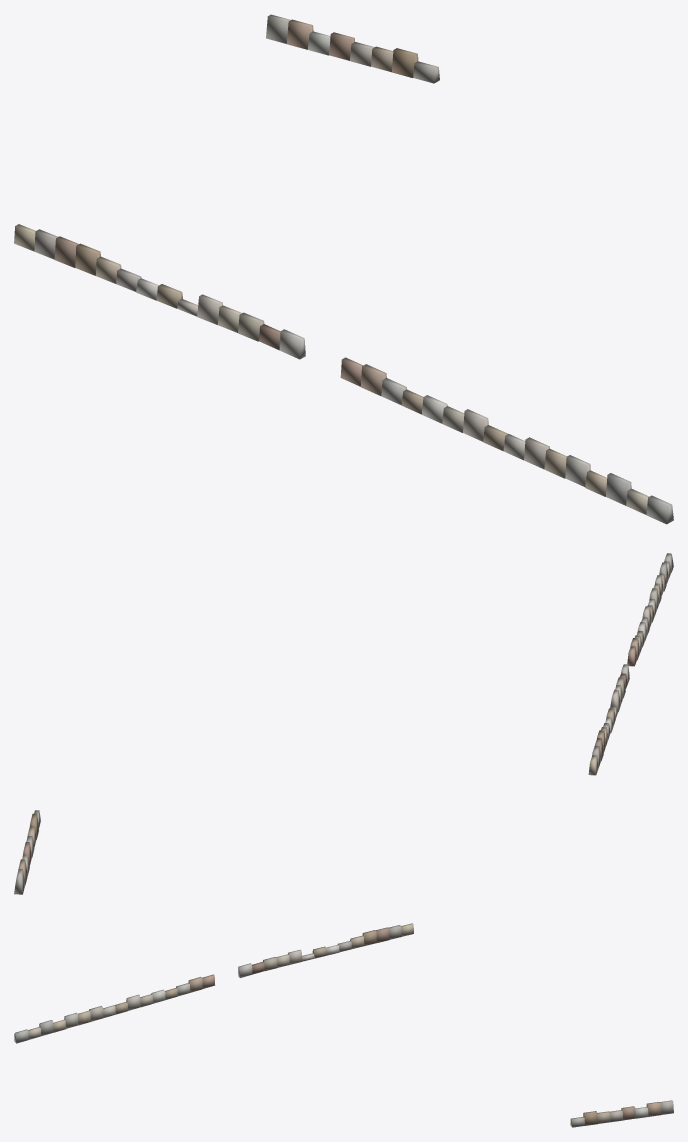
Rendered from farm_-37_-48_collision.glb.
3 renders of one model, top to bottom at view 1: azimuth 30°, elevation 25°; view 2: azimuth 150°, elevation 25°; view 3: azimuth 270°, elevation 25°, orthographic. The views are drawn at different scales.
Parts seen in each view (by area): view 1: geometry_0; view 2: geometry_0; view 3: geometry_0.
Part boxes in pixels (box(x1,y1,x2,y2)): geometry_0: box(14, 14, 673, 524); geometry_0: box(14, 553, 673, 894); geometry_0: box(14, 923, 673, 1127).
Bounding box in the file's own units: 40.52 × 7.65 × 75.88.
